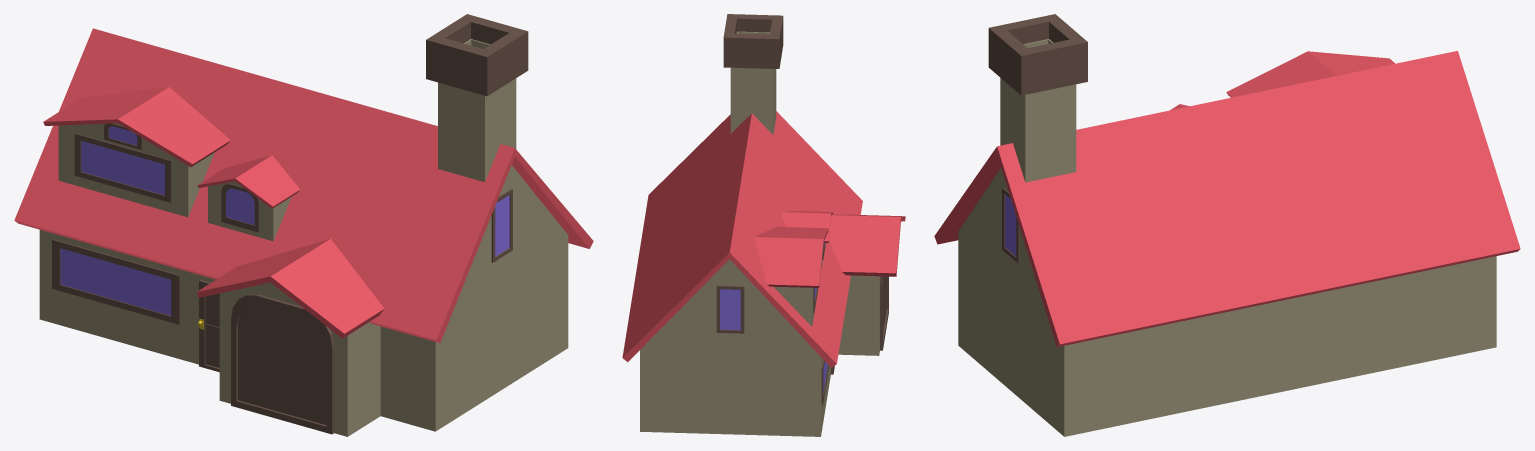
The model's file is CALLE1_CASA1_016.fbx.
The picture shows the model from 3 angles, left to right: view 1: azimuth 30°, elevation 25°; view 2: azimuth 150°, elevation 25°; view 3: azimuth 270°, elevation 25°; orthographic projection. The views are drawn at different scales.
Parts seen in each view (by area): view 1: CASA1.016; view 2: CASA1.016; view 3: CASA1.016.
Boxes of the visible parts, x1,y1,x2,y2 form: CASA1.016: (14, 14, 593, 436); CASA1.016: (622, 14, 905, 436); CASA1.016: (934, 14, 1520, 436).
Bounding box in the file's own units: 914 × 734 × 1112.
